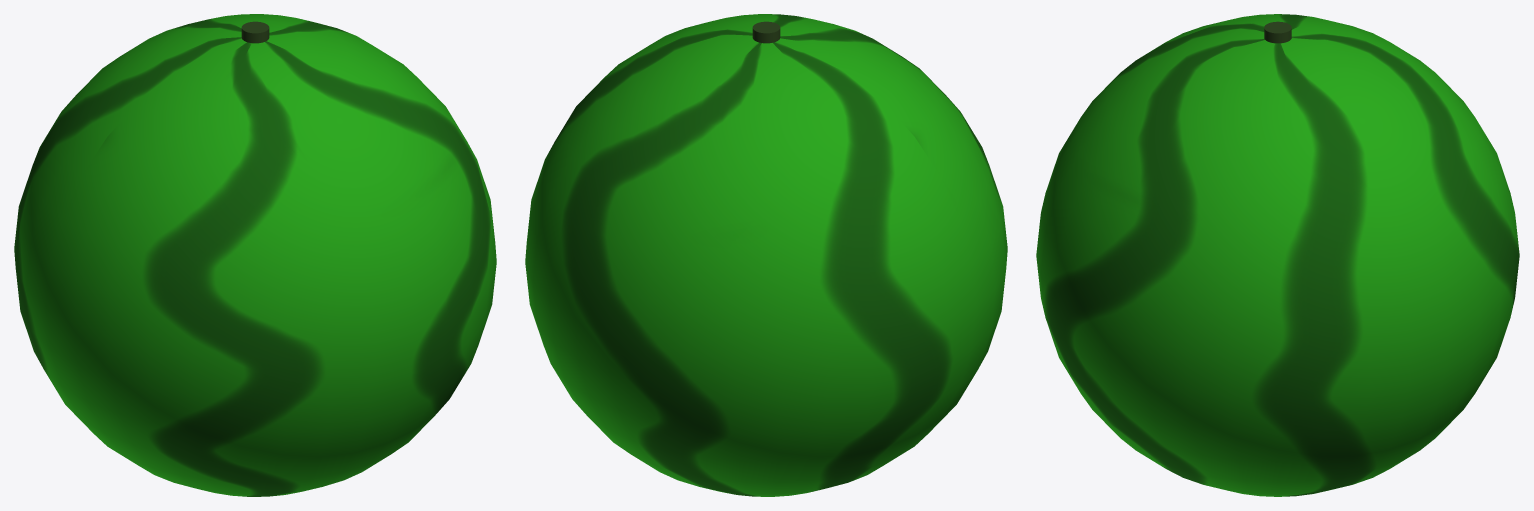
File: WatermelonSmooth.fbx
3 views of the same model, side by side, from view 1: azimuth 30°, elevation 25°; view 2: azimuth 150°, elevation 25°; view 3: azimuth 270°, elevation 25° (orthographic).
Parts seen in each view (by area): view 1: Sphere, Cylinder; view 2: Sphere, Cylinder; view 3: Sphere, Cylinder.
Part boxes in pixels (bbox=[...]): Sphere: bbox=[14, 14, 496, 496]; Cylinder: bbox=[241, 21, 269, 43]; Sphere: bbox=[525, 14, 1007, 496]; Cylinder: bbox=[752, 21, 780, 43]; Sphere: bbox=[1036, 14, 1519, 496]; Cylinder: bbox=[1264, 21, 1291, 43].
Bounding box in the file's own units: 350 × 357 × 350.
